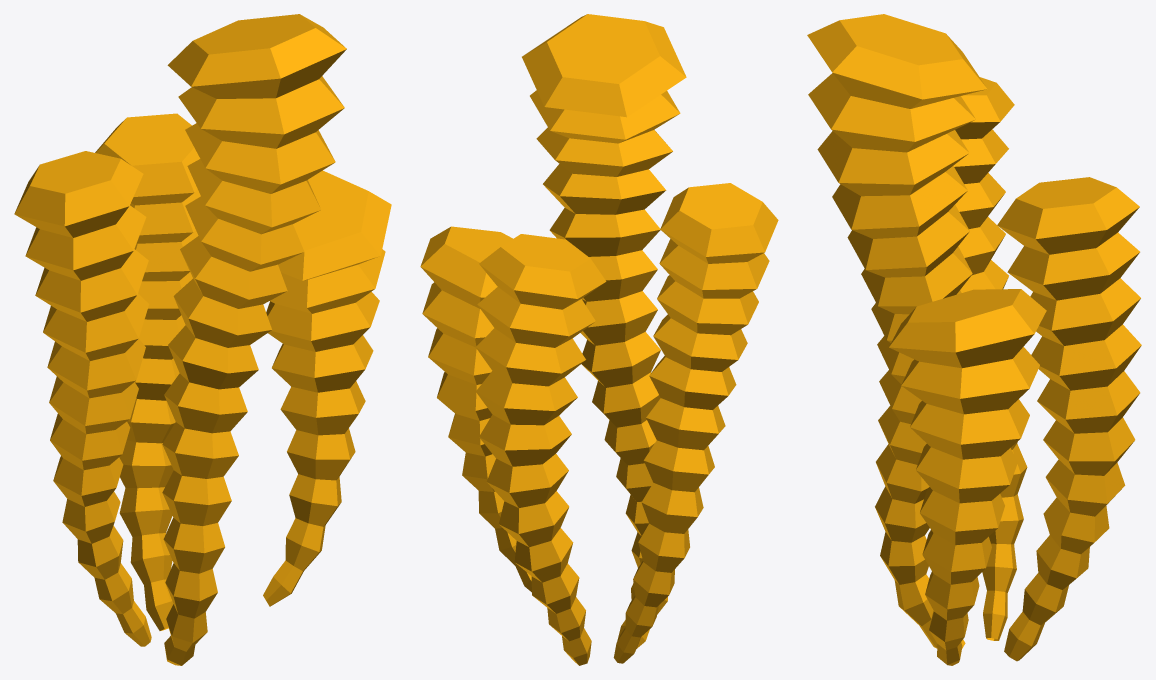
The model's file is Coral_22.fbx.
3 views of the same model, side by side, from view 1: azimuth 30°, elevation 25°; view 2: azimuth 150°, elevation 25°; view 3: azimuth 270°, elevation 25° (orthographic). The views are drawn at different scales.
Parts seen in each view (by area): view 1: Coral_22; view 2: Coral_22; view 3: Coral_22.
Boxes of the visible parts, bbox=[...] form: Coral_22: bbox=[14, 14, 391, 665]; Coral_22: bbox=[420, 14, 778, 665]; Coral_22: bbox=[807, 14, 1141, 665].
Size of the model in its own units: 60.62 by 101 by 46.64.
